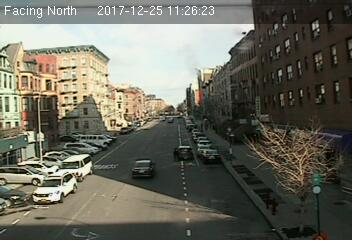car: (28, 171, 80, 207), (131, 158, 155, 178), (200, 148, 221, 165), (175, 145, 194, 161)
truck: (58, 154, 96, 182)
